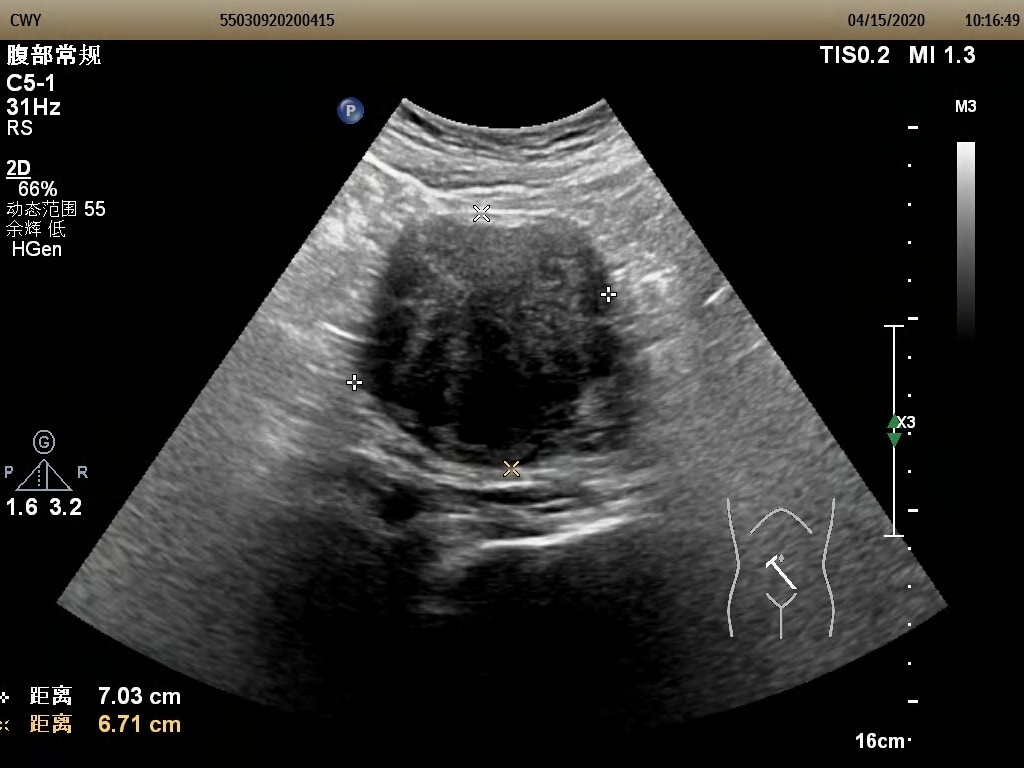肌瘤: (355, 216, 612, 470)
